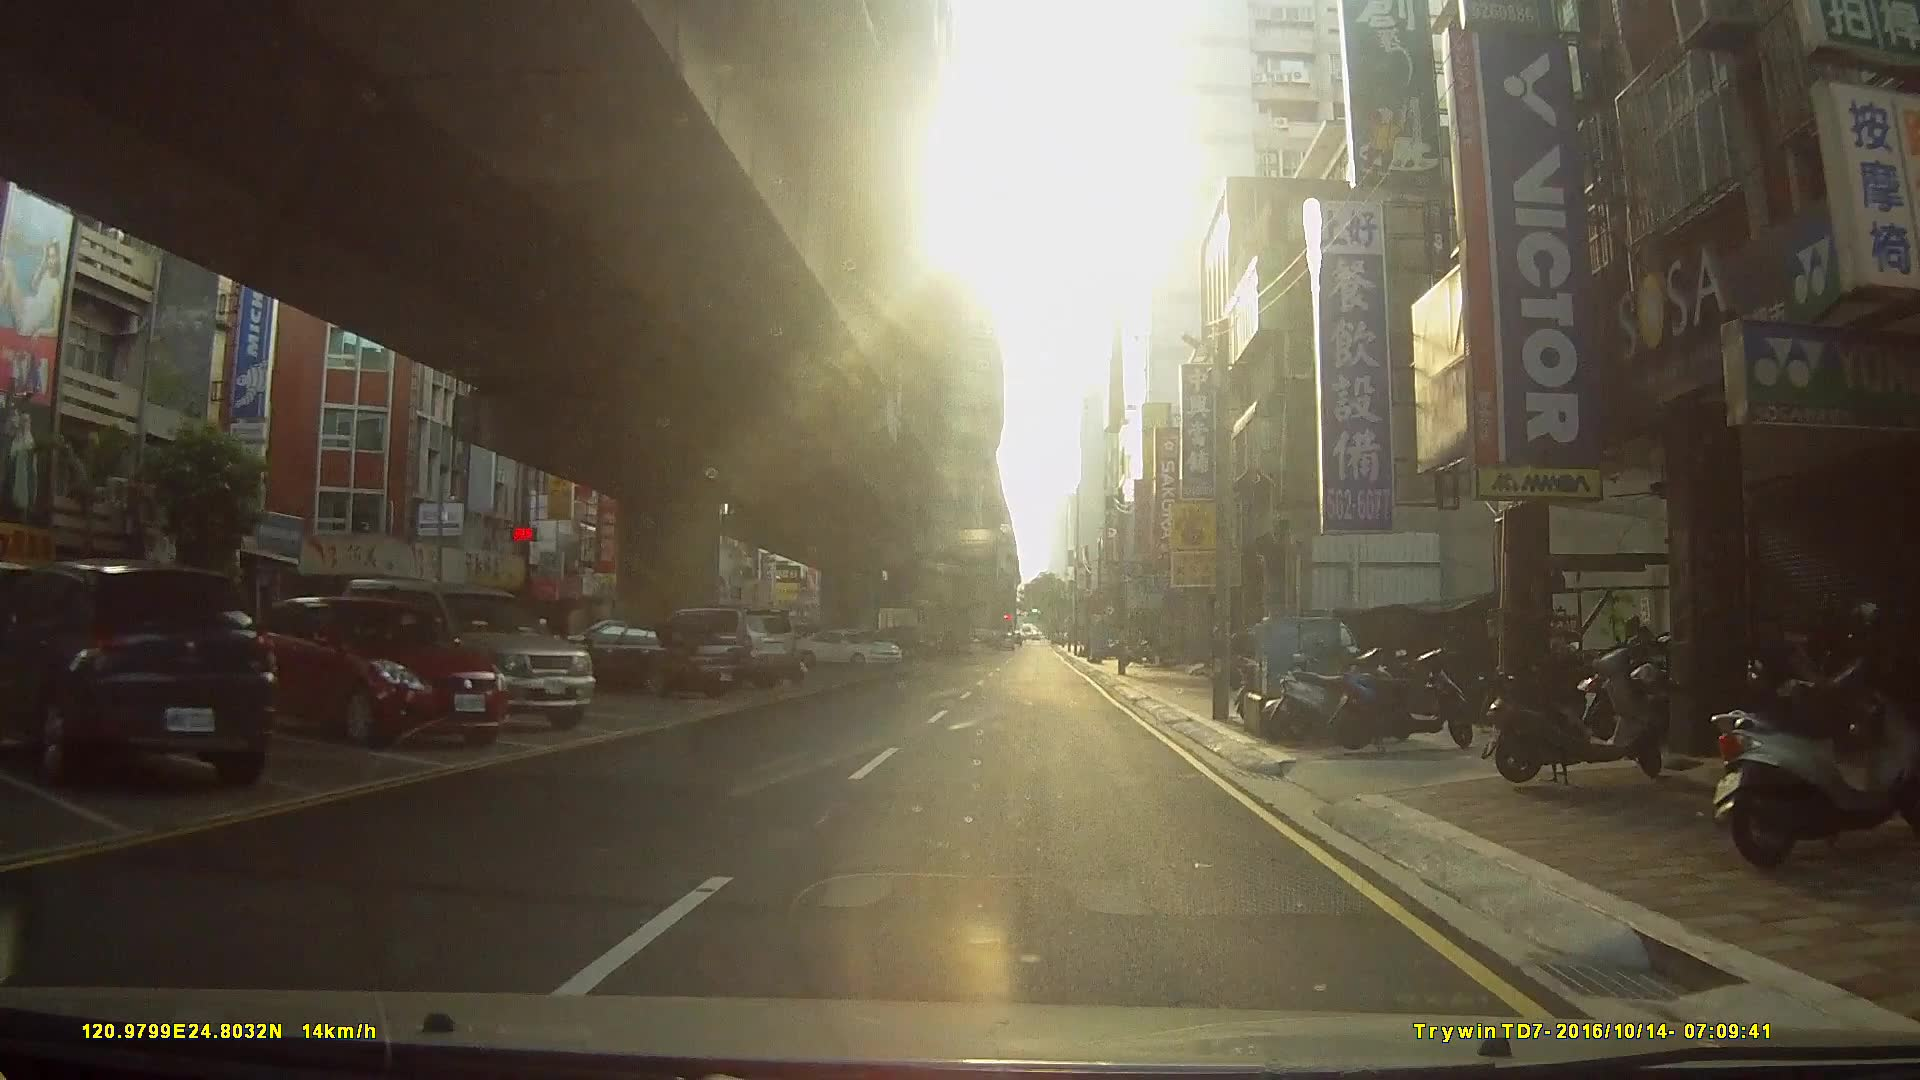vehicle: (0, 555, 280, 786), (338, 574, 597, 731), (248, 591, 509, 742), (562, 615, 754, 696), (640, 603, 799, 688), (793, 625, 905, 667)
